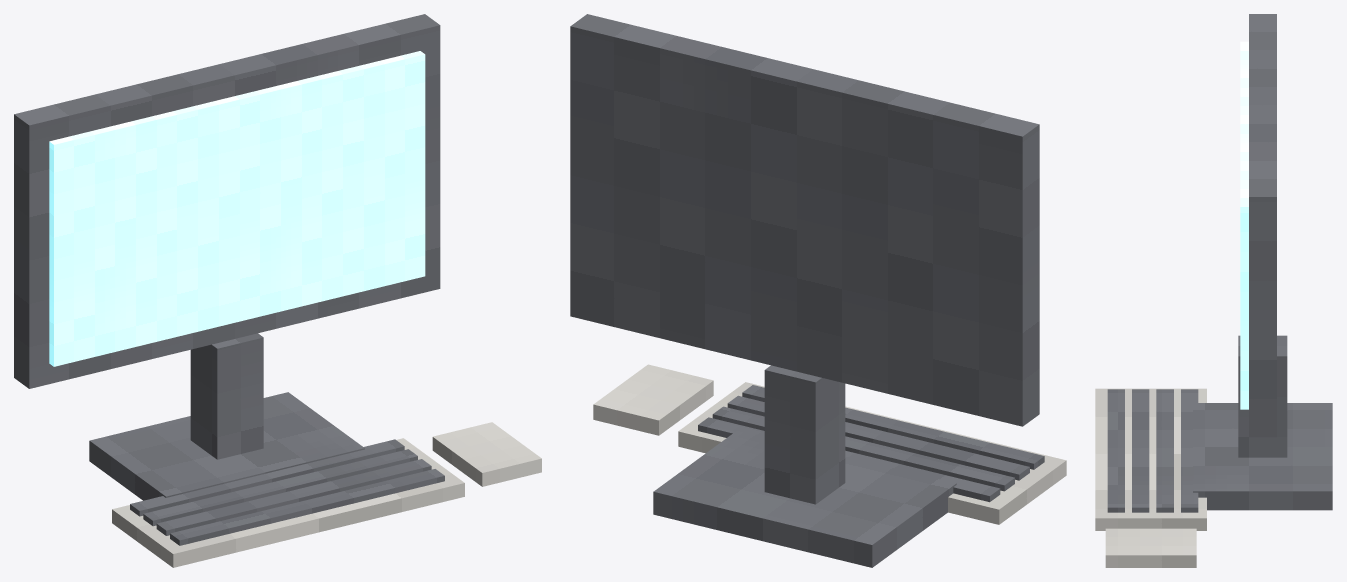
Rendered from pixel-modern-apartments-monitor-and-keyboard-f78368ef__29843.glb.
3 renders of one model, left to right at view 1: azimuth 30°, elevation 25°; view 2: azimuth 150°, elevation 25°; view 3: azimuth 270°, elevation 25°, orthographic. The views are drawn at different scales.
Visible parts, largest first — view 1: monitor-and-keyboard; view 2: monitor-and-keyboard; view 3: monitor-and-keyboard.
Boxes of the visible parts, left/top/right/bottom form: monitor-and-keyboard: left=14, top=14, right=541, bottom=567; monitor-and-keyboard: left=570, top=14, right=1066, bottom=567; monitor-and-keyboard: left=1095, top=14, right=1332, bottom=567.
Size of the model in its own units: 0.655 by 0.57 by 0.34.
Materials: 3 (3 with a texture image).
